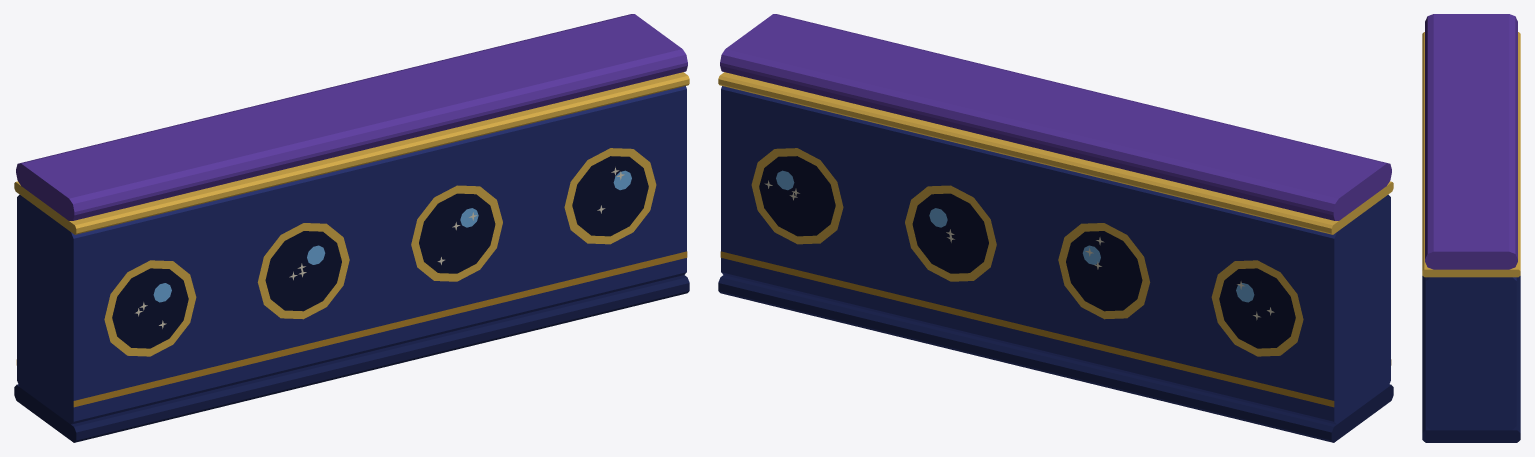
File: observatory-border.glb
The picture shows the model from 3 angles, left to right: view 1: azimuth 30°, elevation 25°; view 2: azimuth 150°, elevation 25°; view 3: azimuth 270°, elevation 25°; orthographic projection. The views are drawn at different scales.
Parts seen in each view (by area): view 1: observatory-border; view 2: observatory-border; view 3: observatory-border.
Part boxes in pixels (x1,y1,x2,y2): observatory-border: (14,14,689,442); observatory-border: (718,14,1393,442); observatory-border: (1422,14,1520,442).
Bounding box in the file's own units: 4 × 1.5 × 0.7.
